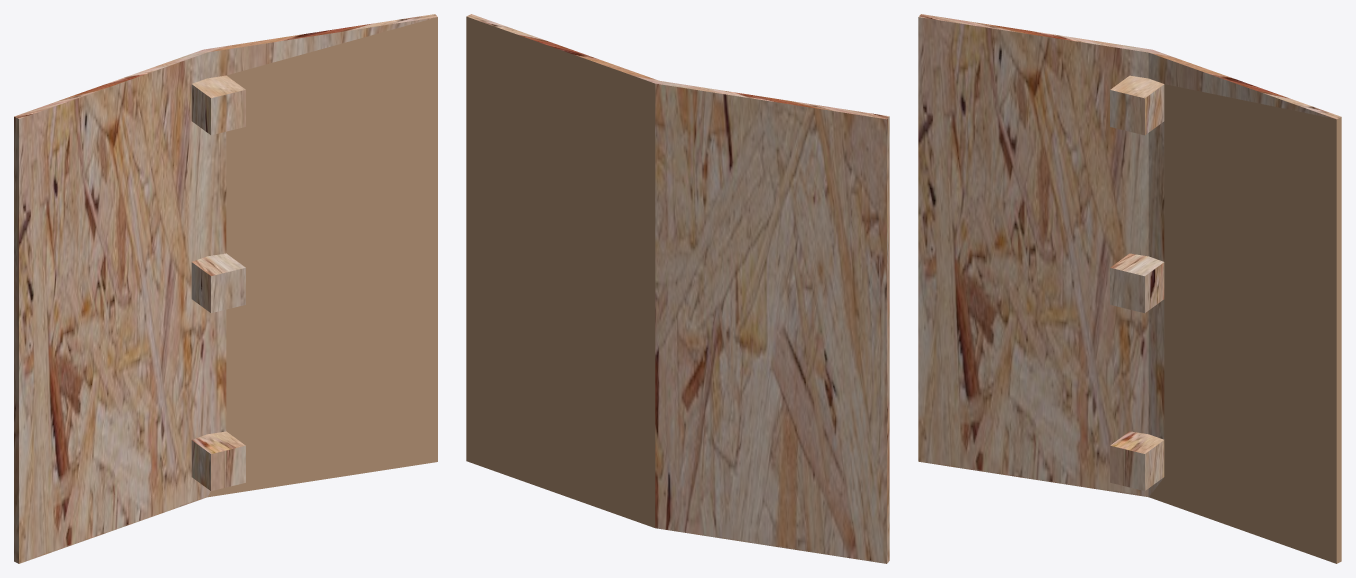
3 views of the same model, side by side, from view 1: azimuth 30°, elevation 25°; view 2: azimuth 150°, elevation 25°; view 3: azimuth 330°, elevation 25° (orthographic).
Visible parts, largest first — view 1: base_link; view 2: base_link; view 3: base_link.
Boxes of the visible parts, x1,y1,x2,y2 form: base_link: [14, 14, 437, 563]; base_link: [466, 14, 889, 563]; base_link: [918, 14, 1341, 563].
Size of the model in its own units: 1188 by 124 by 1200.
Materials: 1 (1 with a texture image).
